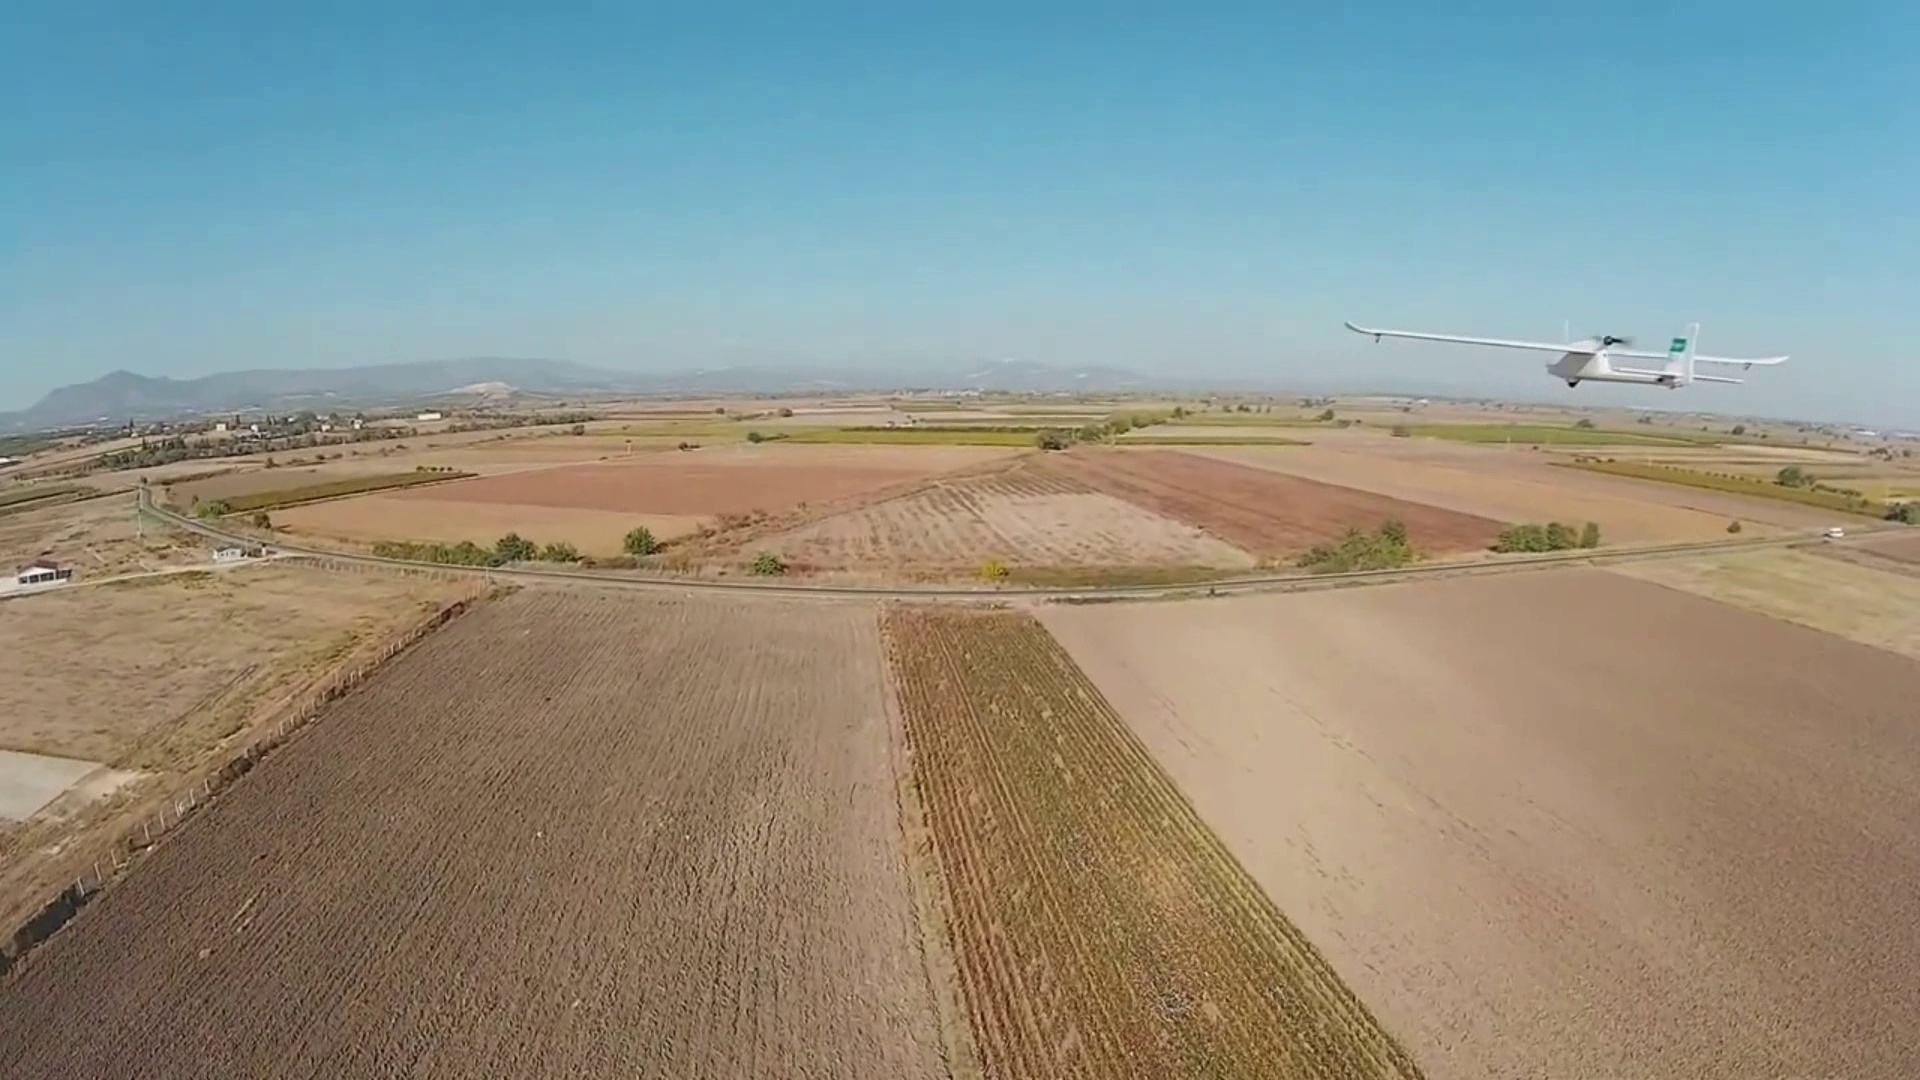airplane: (1345, 313, 1785, 389)
